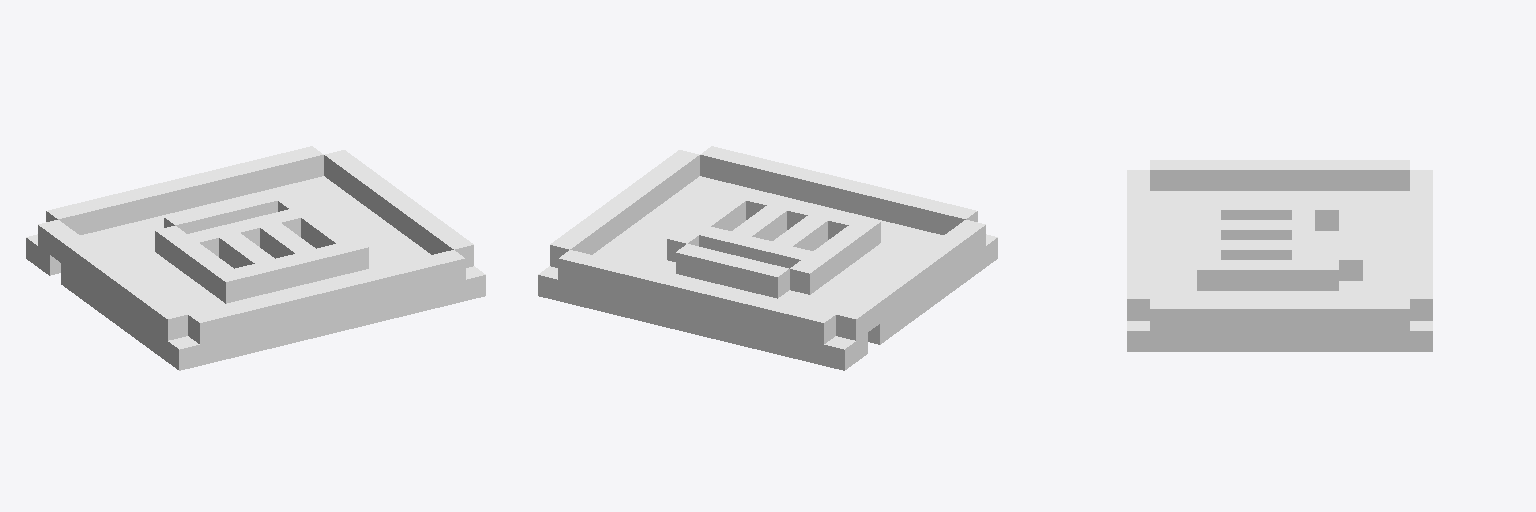
File: buttonShape_cancel.obj
The picture shows the model from 3 angles: view 1: azimuth 30°, elevation 25°; view 2: azimuth 150°, elevation 25°; view 3: azimuth 270°, elevation 25°; orthographic projection.
Size of the model in its own units: 15 by 2 by 13.